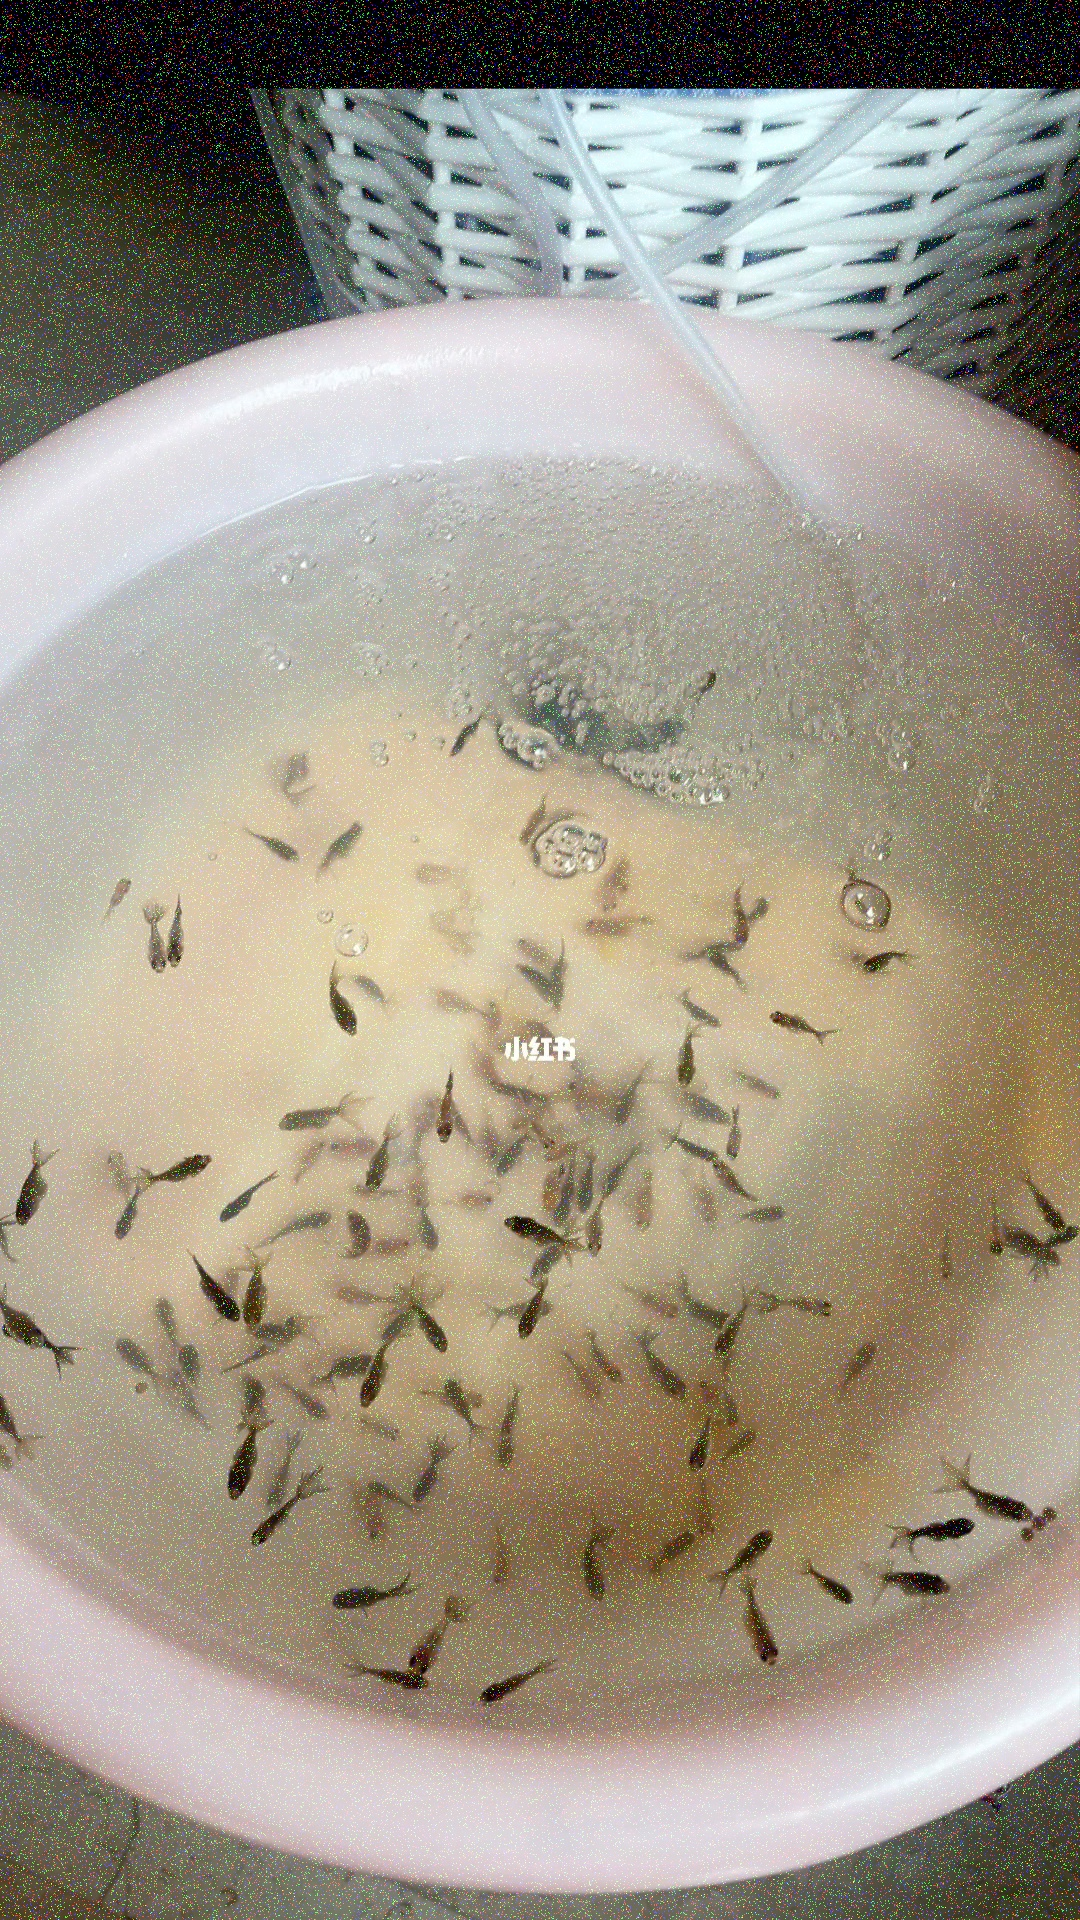fry: (943, 1455, 1058, 1527), (393, 1598, 483, 1681), (822, 851, 905, 936), (4, 1288, 79, 1370), (889, 1502, 986, 1564), (560, 1523, 628, 1611), (731, 1578, 790, 1676), (302, 810, 371, 891), (758, 1274, 851, 1332), (135, 1145, 232, 1197), (472, 1659, 555, 1720), (872, 1553, 967, 1606), (789, 1549, 864, 1615), (305, 1564, 409, 1611), (828, 1317, 889, 1396), (491, 1389, 545, 1474), (429, 1374, 495, 1444), (207, 1174, 280, 1234), (717, 1520, 787, 1582), (843, 934, 930, 982), (311, 971, 364, 1051), (9, 1147, 55, 1238), (208, 1432, 262, 1509), (433, 705, 502, 764), (638, 1332, 690, 1408), (502, 787, 562, 853), (764, 998, 829, 1058), (429, 1065, 472, 1153), (258, 1095, 351, 1135), (713, 881, 766, 949), (264, 744, 320, 804), (596, 1072, 647, 1138), (356, 1117, 400, 1195), (94, 1131, 138, 1207), (585, 857, 645, 913), (166, 1361, 214, 1429), (107, 1332, 164, 1389), (80, 864, 138, 919), (247, 1308, 306, 1362), (342, 1505, 396, 1564), (644, 1519, 694, 1581), (924, 1207, 963, 1287), (353, 1664, 439, 1700), (479, 1524, 524, 1592), (345, 959, 404, 1010), (589, 1329, 640, 1389), (158, 891, 194, 975), (196, 1269, 241, 1335), (1023, 1172, 1068, 1238), (251, 822, 309, 872), (351, 1346, 400, 1406), (142, 1283, 189, 1345), (1019, 1225, 1064, 1288), (232, 1367, 281, 1425), (705, 1304, 753, 1364), (406, 851, 468, 895), (409, 1455, 464, 1505), (684, 1478, 728, 1540), (621, 1178, 662, 1244), (572, 910, 645, 947), (551, 1065, 604, 1116), (241, 1505, 294, 1555), (670, 1127, 724, 1176), (413, 1305, 462, 1360), (696, 1364, 745, 1418), (727, 1193, 789, 1236), (618, 1276, 680, 1319), (492, 1204, 556, 1244), (673, 989, 724, 1038), (520, 964, 562, 1023), (562, 1353, 604, 1412), (239, 1253, 270, 1331), (676, 1278, 727, 1327), (736, 1065, 787, 1113), (698, 940, 752, 985), (316, 1344, 371, 1389), (136, 913, 167, 989), (0, 1406, 45, 1458), (662, 1029, 705, 1083), (430, 913, 479, 959), (104, 1197, 149, 1247), (982, 1191, 1013, 1265), (589, 1153, 630, 1207), (291, 1383, 339, 1429), (411, 1200, 447, 1261), (713, 1160, 762, 1204), (487, 1135, 526, 1187), (675, 1418, 711, 1474), (338, 1207, 373, 1262), (289, 1200, 334, 1244), (287, 1139, 338, 1176), (520, 1247, 570, 1284), (723, 1422, 764, 1466), (479, 1068, 530, 1104), (364, 1412, 415, 1447), (517, 1120, 566, 1155), (502, 930, 555, 961), (472, 1117, 504, 1170), (170, 1336, 208, 1379), (330, 1125, 375, 1162), (687, 1096, 735, 1130), (454, 1182, 498, 1217), (360, 1464, 406, 1498), (568, 1170, 596, 1225), (1047, 1212, 1079, 1257), (535, 1166, 566, 1212), (582, 1222, 613, 1266), (534, 1139, 587, 1164), (555, 1183, 578, 1238), (715, 1121, 745, 1160), (381, 1222, 409, 1259)
